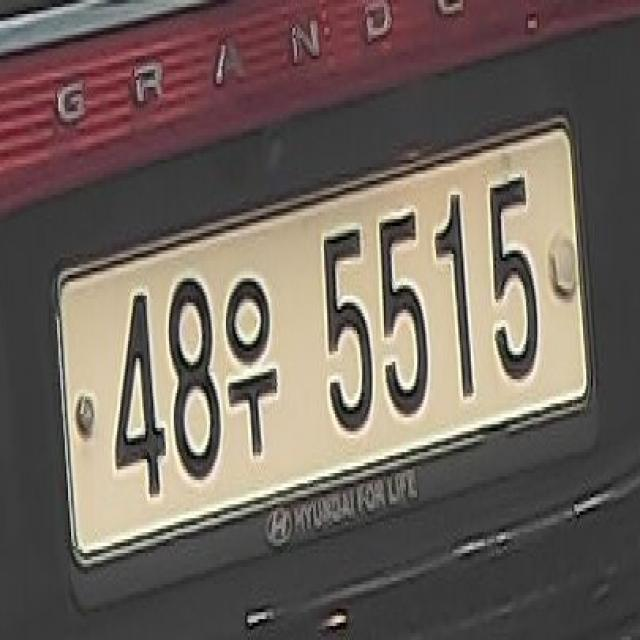1: (428, 182, 480, 422)
4: (106, 279, 164, 526)
5: (372, 195, 432, 439), (312, 226, 377, 449), (486, 169, 542, 395)
8: (165, 268, 222, 496)
license_plate: (41, 88, 607, 622)
u: (222, 260, 284, 477)
